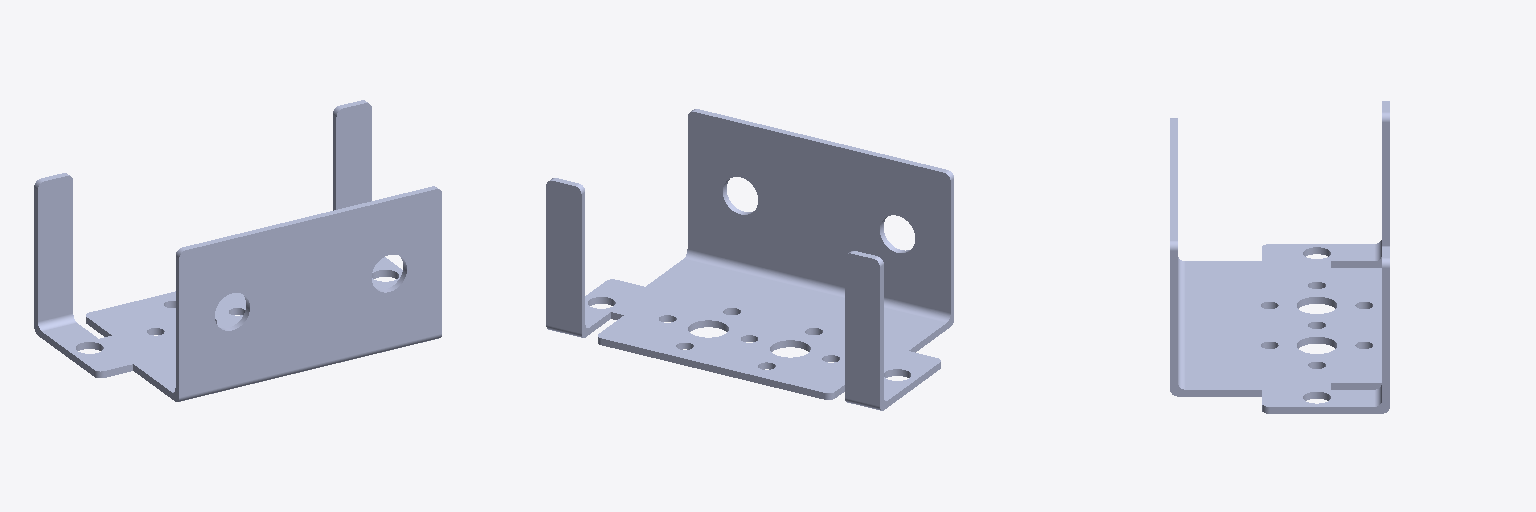
Rendered from sujetador_grande.obj.
The picture shows the model from 3 angles: view 1: azimuth 30°, elevation 25°; view 2: azimuth 150°, elevation 25°; view 3: azimuth 270°, elevation 25°; orthographic projection.
Parts seen in each view (by area): view 1: Cut_Extrude1; view 2: Cut_Extrude1; view 3: Cut_Extrude1.
Part boxes in pixels (bbox=[...]): Cut_Extrude1: bbox=[34, 100, 441, 401]; Cut_Extrude1: bbox=[546, 109, 953, 410]; Cut_Extrude1: bbox=[1170, 101, 1389, 413].
Bounding box in the file's own units: 29.72 × 12.99 × 16.93.